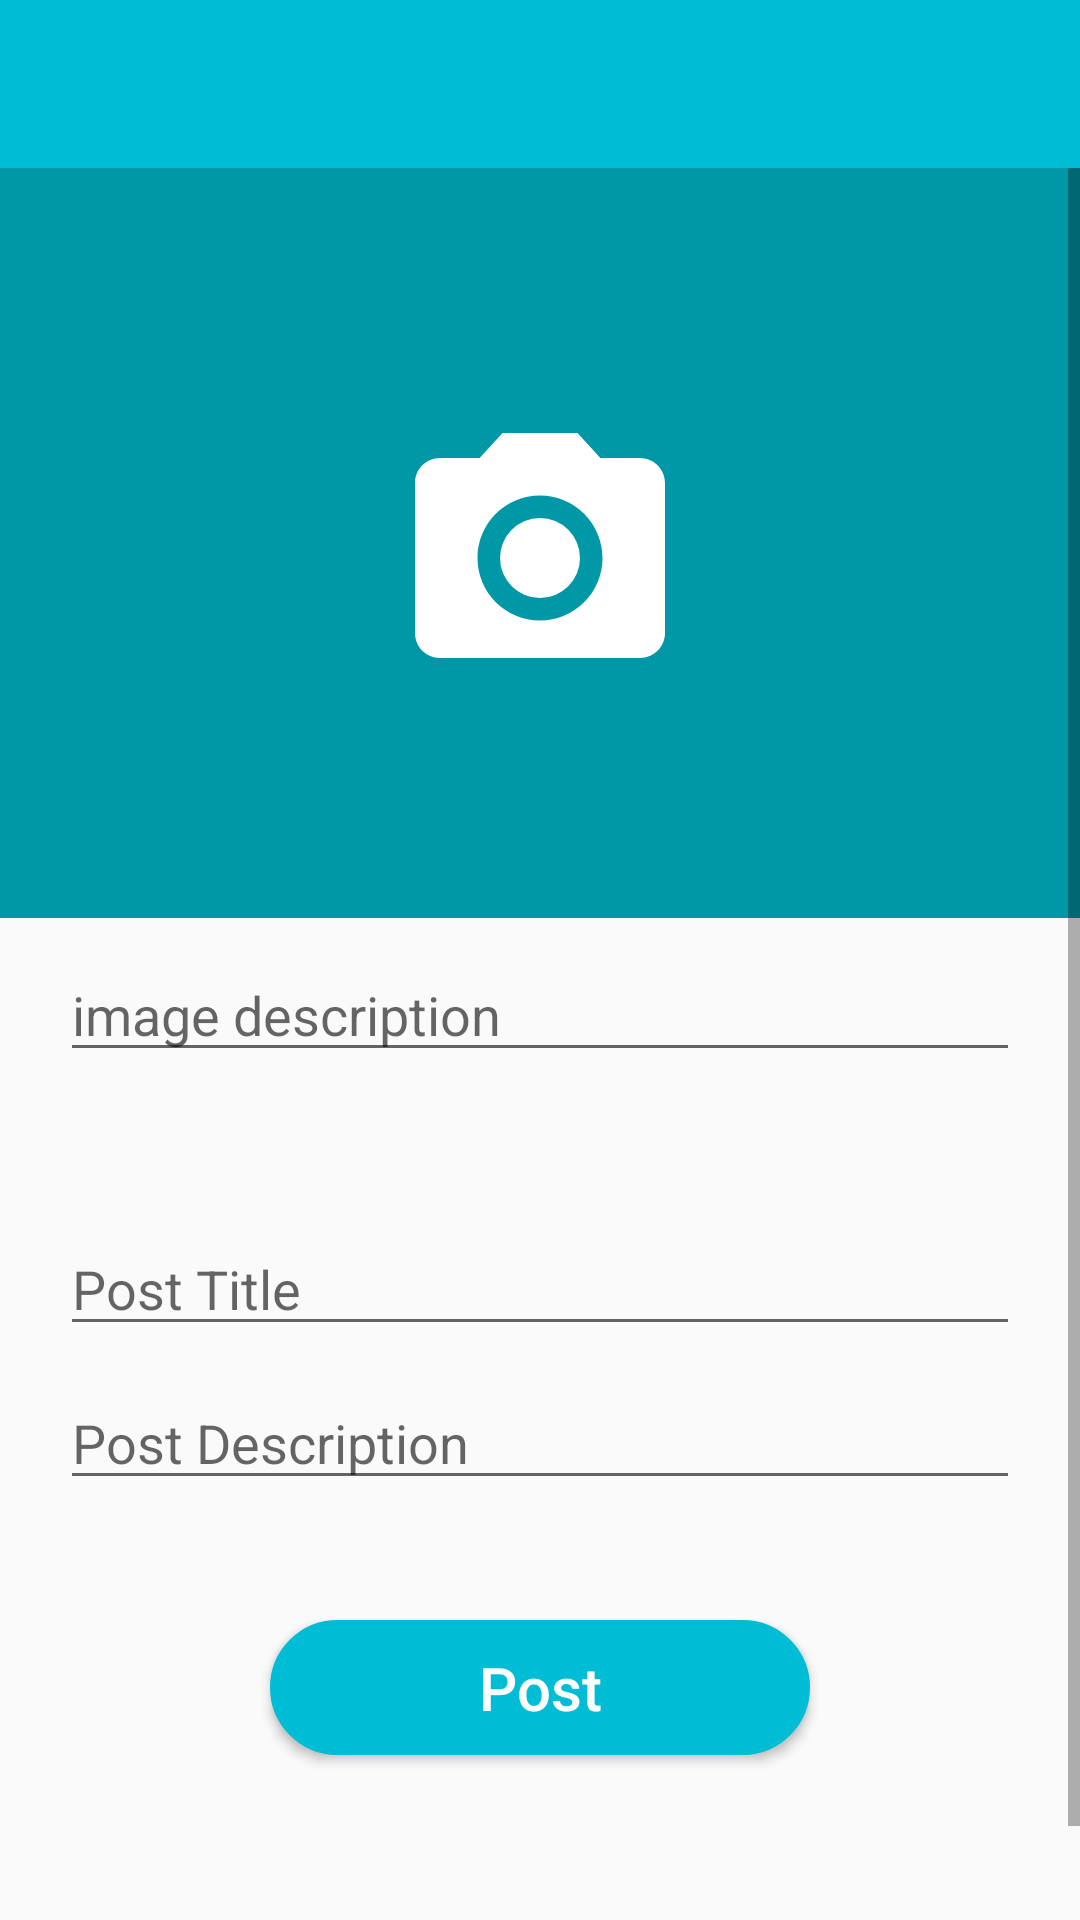

Where icons sit on this 1080w x 1920h app screen, as (x1, y1, x2, y2):
photo camera: (415, 433, 665, 658)
